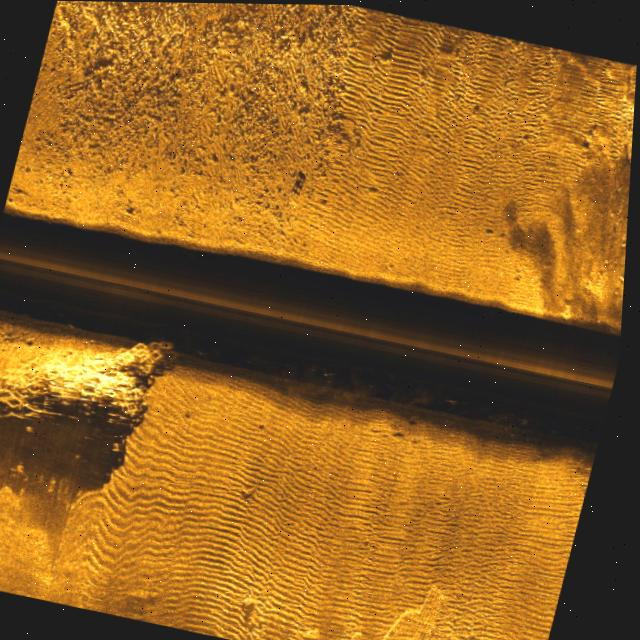artificial reef: (0, 298, 178, 470)
